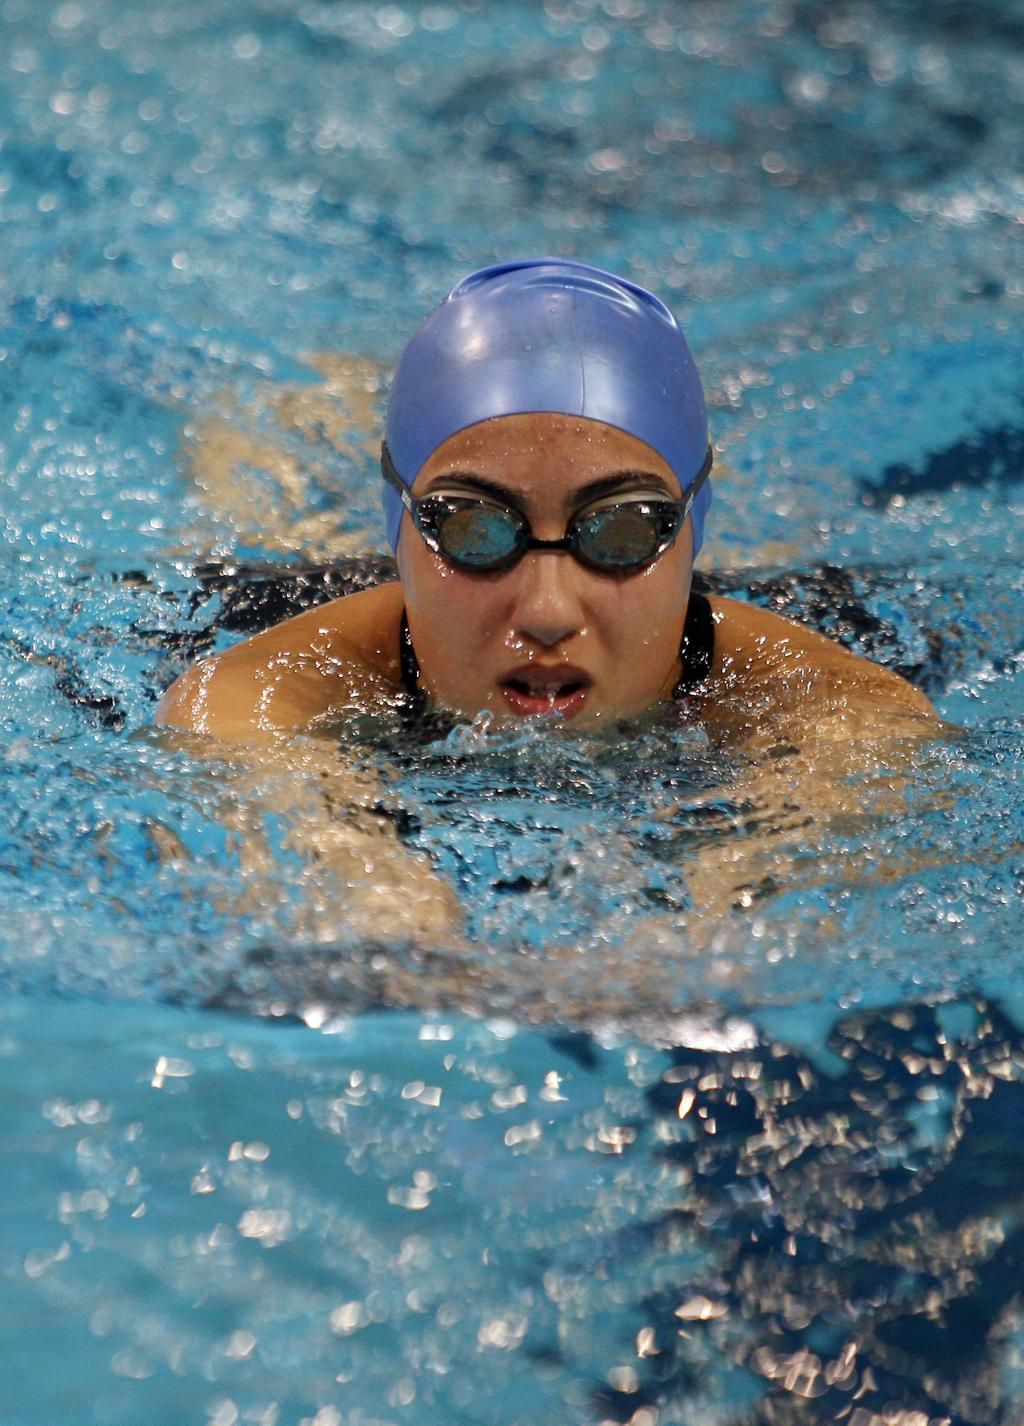face: (409, 431, 693, 757)
